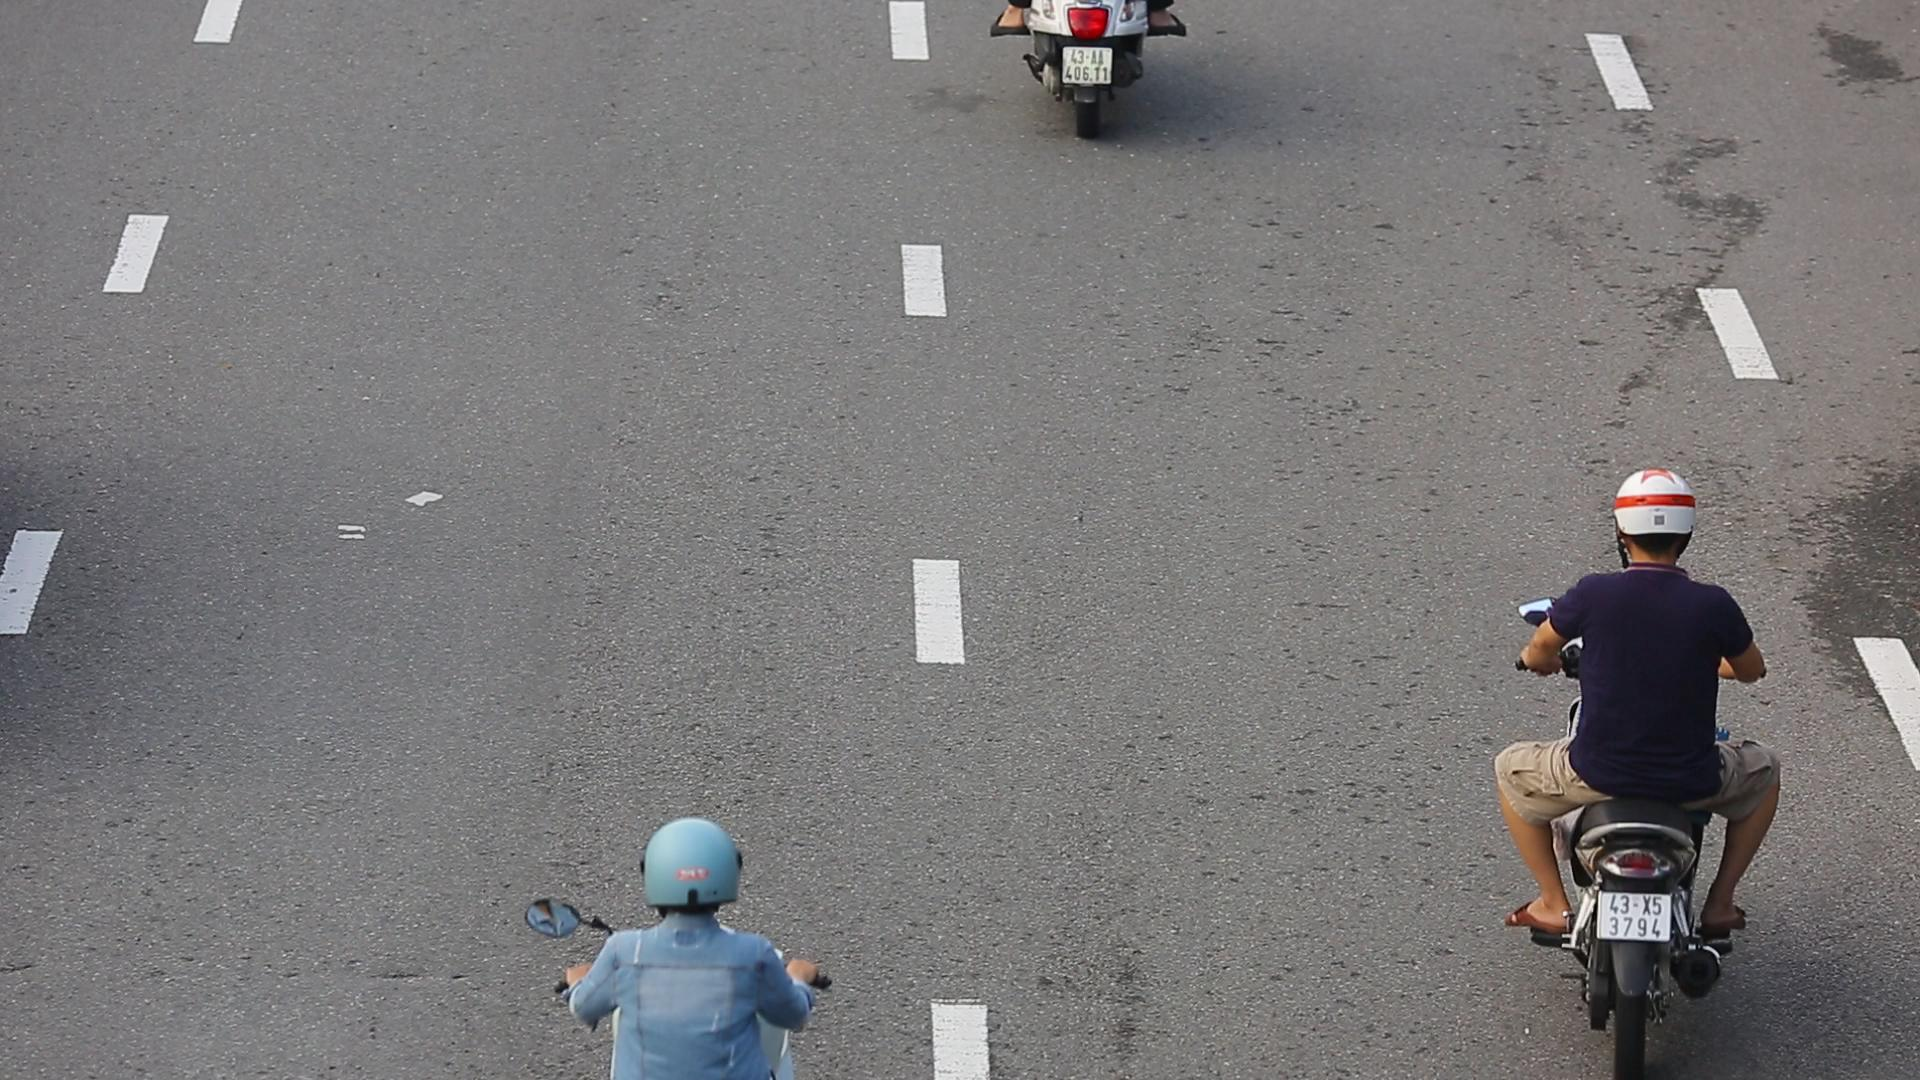motobike: (1503, 462, 1789, 1075)
